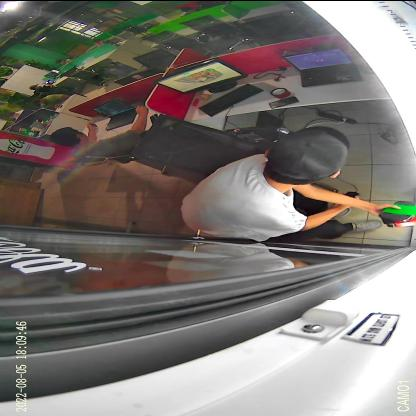green: (379, 200, 416, 221)
red: (378, 213, 416, 227)
